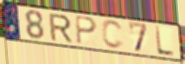7: (128, 21, 149, 54)
8: (24, 9, 46, 41)
C: (101, 19, 125, 51)
L: (154, 25, 176, 58)
P: (74, 15, 99, 46)
R: (48, 13, 74, 44)
